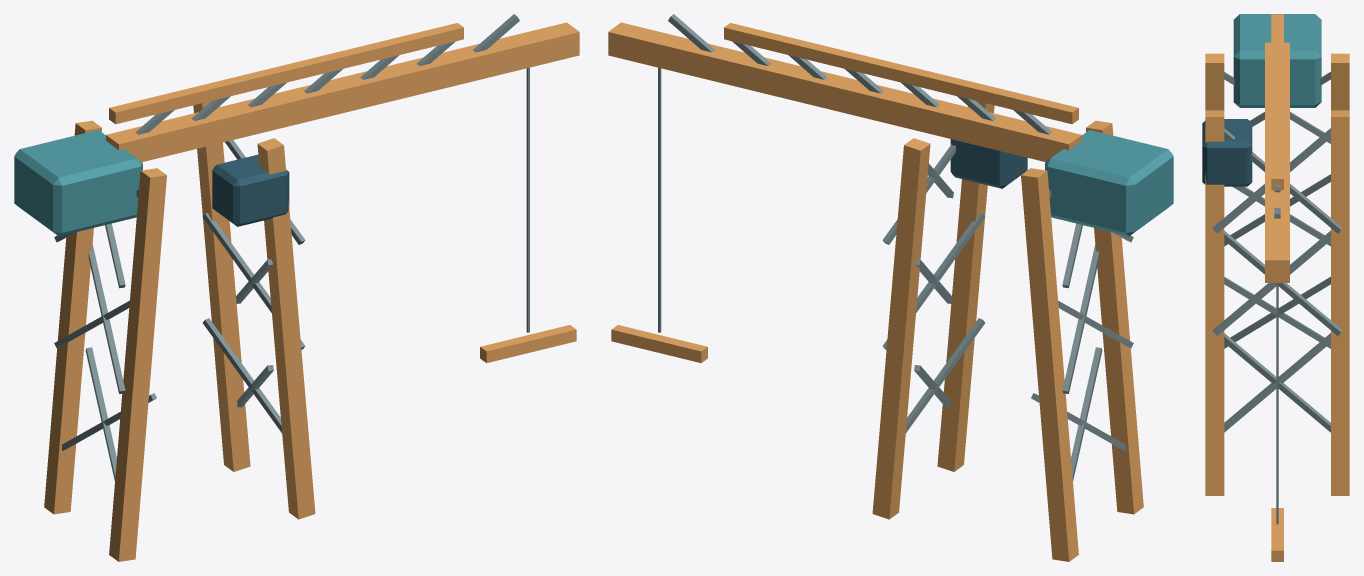
The model's file is crane.glb.
3 renders of one model, left to right at view 1: azimuth 30°, elevation 25°; view 2: azimuth 150°, elevation 25°; view 3: azimuth 270°, elevation 25°, orthographic. The views are drawn at different scales.
Visible parts, largest first — view 1: Cube, Cube.001, Cube.027, Cube.028; view 2: Cube, Cube.001, Cube.027, Cube.028; view 3: Cube, Cube.001, Cube.027, Cube.028.
Boxes of the visible parts, left/top/right/bottom form: Cube: left=44, top=22, right=579, bottom=561; Cube.001: left=54, top=14, right=529, bottom=480; Cube.027: left=14, top=130, right=142, bottom=236; Cube.028: left=212, top=154, right=289, bottom=226; Cube: left=608, top=22, right=1143, bottom=561; Cube.001: left=658, top=14, right=1133, bottom=480; Cube.027: left=1045, top=130, right=1173, bottom=236; Cube.028: left=950, top=139, right=1027, bottom=188; Cube: left=1205, top=14, right=1349, bottom=561; Cube.001: left=1212, top=72, right=1342, bottom=524; Cube.027: left=1233, top=14, right=1321, bottom=107; Cube.028: left=1202, top=119, right=1252, bottom=186.
Size of the model in its own units: 48 by 35.57 by 11.75.
